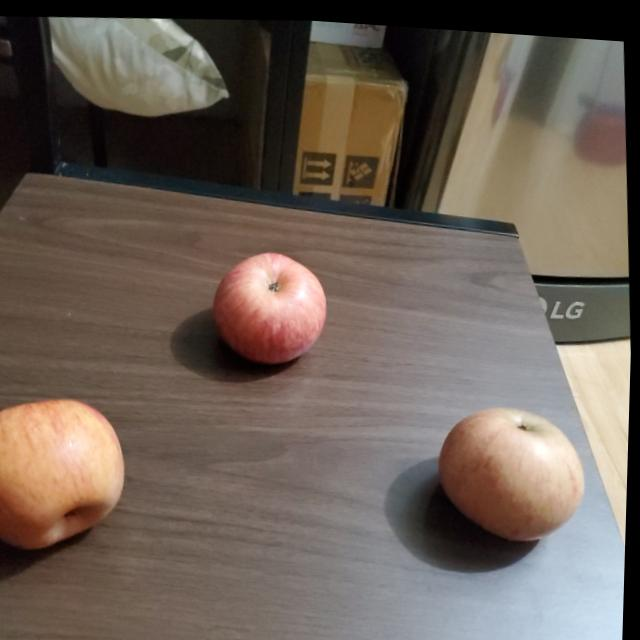apple: (442, 392, 593, 541), (0, 391, 133, 555), (212, 244, 332, 366)
